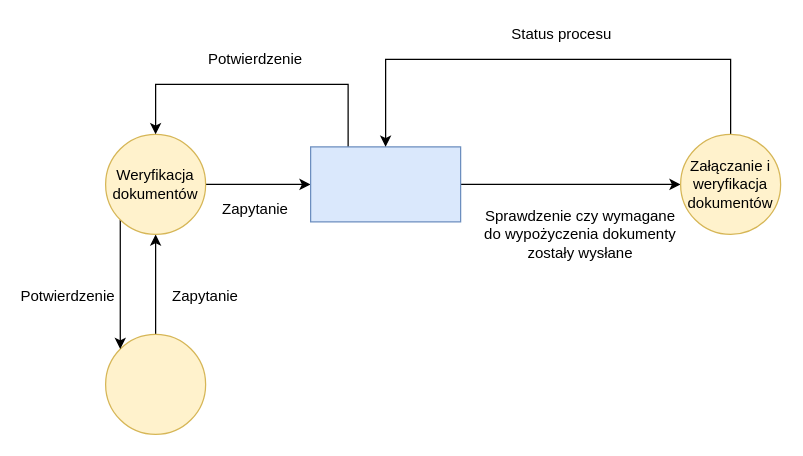
Image size: 803x456. Some labels were removed from this diagram. Here are the shapes that lost their labels. From the top down, the centre of each, then its label:
point (385, 184): Baza danych przesłanych dokumentów
point (155, 383): Proces zamówienia
